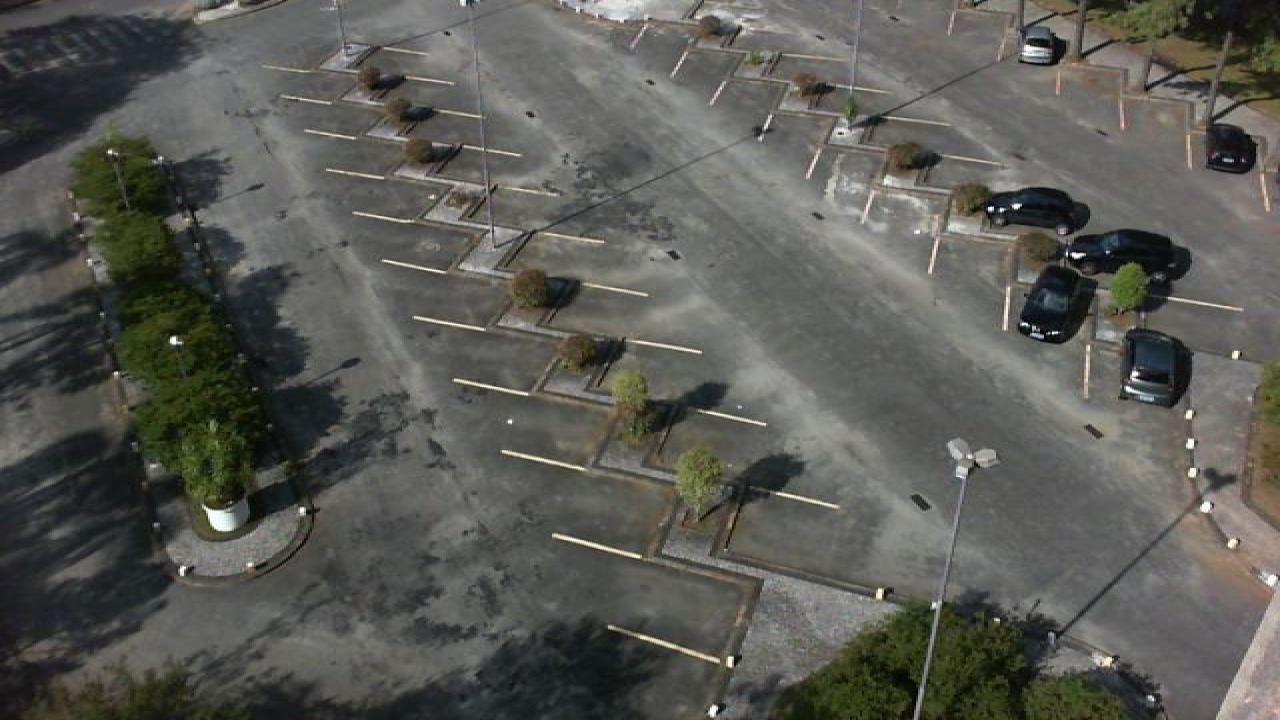Car: (1066, 228, 1194, 278), (1016, 264, 1096, 344), (1120, 328, 1194, 408), (984, 186, 1090, 234), (1206, 123, 1258, 173), (1018, 26, 1066, 65)
